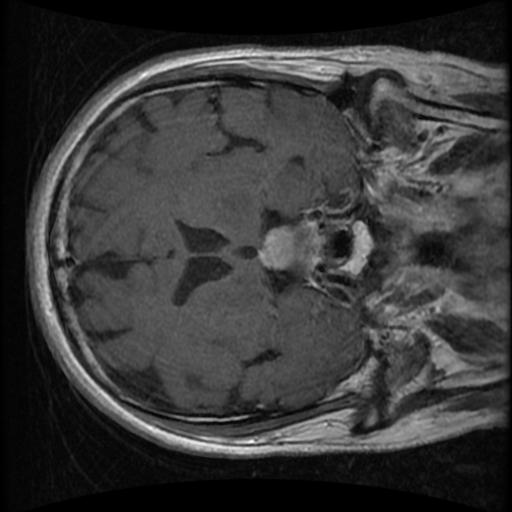pituitary tumour: (261, 220, 326, 278)
